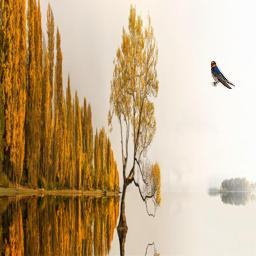Swallow: (211, 61, 235, 89)
